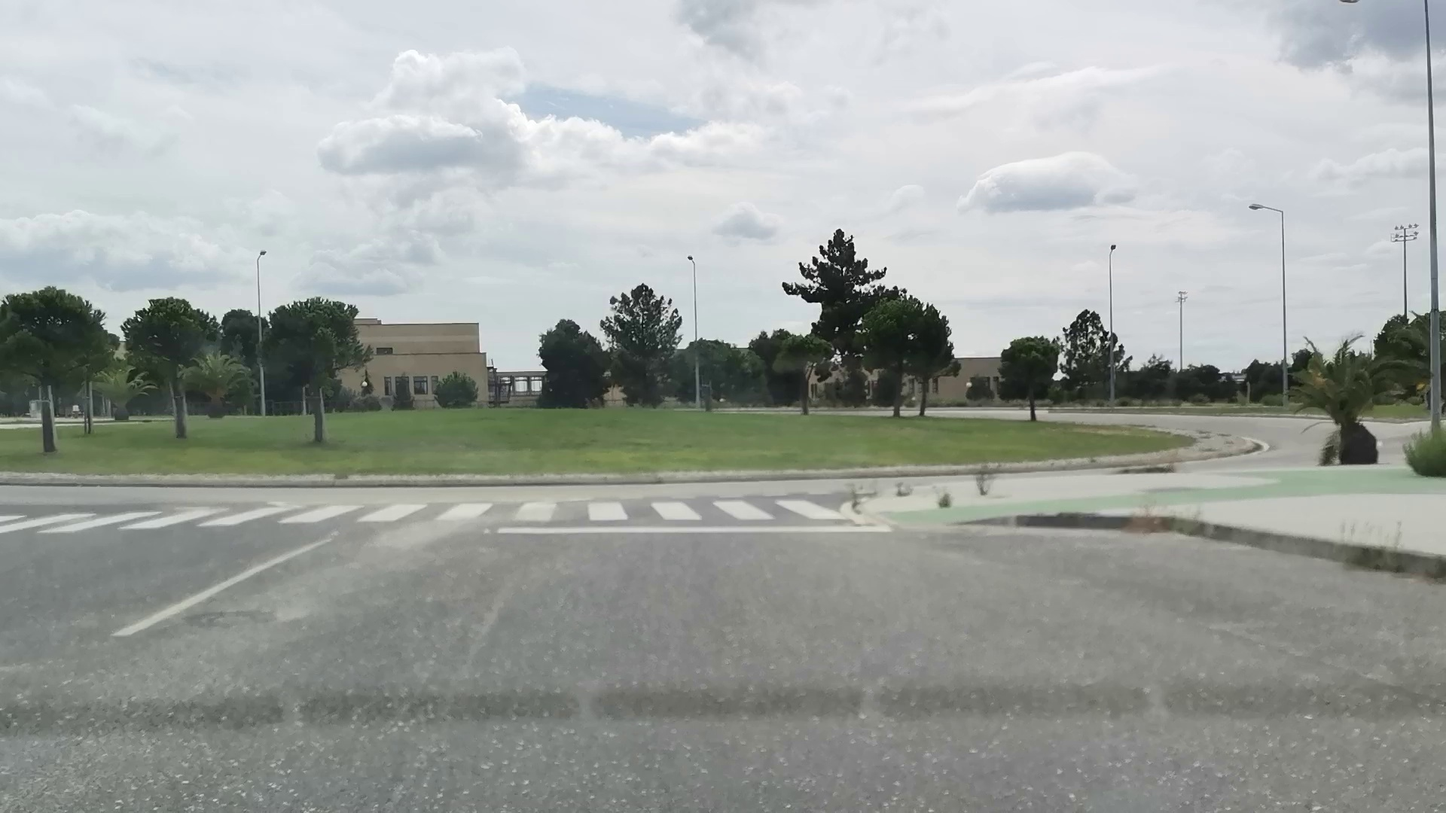Stairs: (0, 494, 847, 528)
